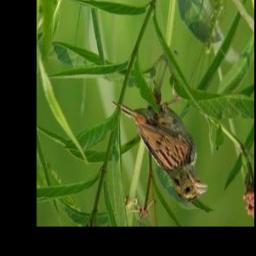Sparrow: (109, 76, 210, 205)
